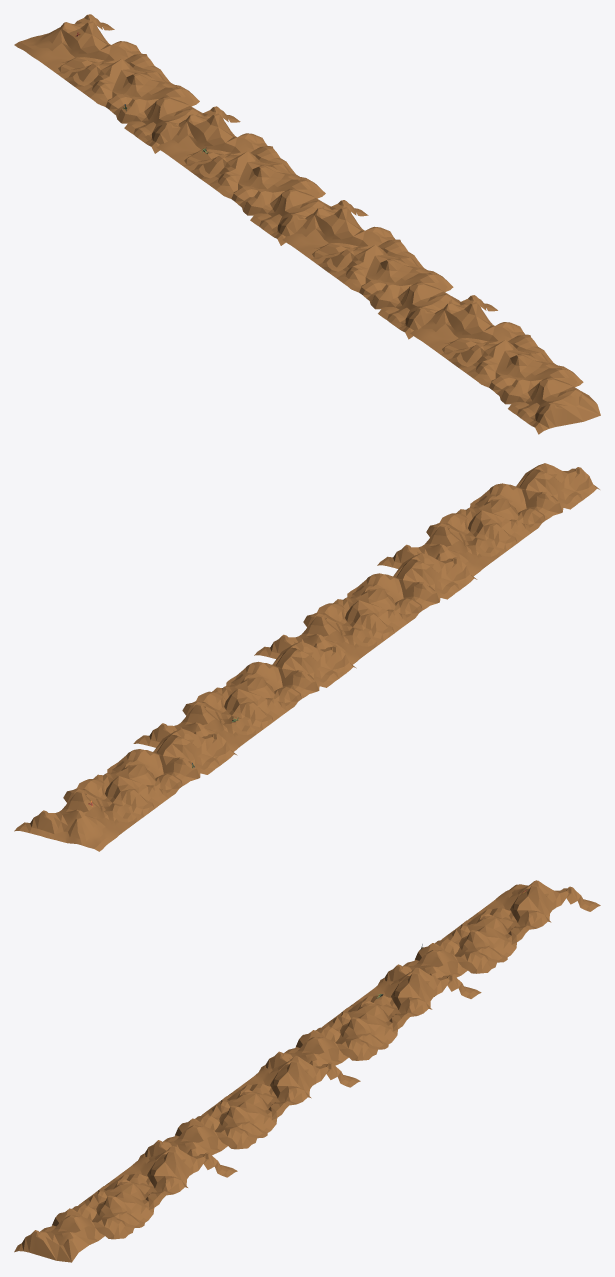
The model's file is _lvl_desert_mountains.glb.
The picture shows the model from 3 angles, top to bottom: view 1: azimuth 30°, elevation 25°; view 2: azimuth 150°, elevation 25°; view 3: azimuth 330°, elevation 25°; orthographic projection. The views are drawn at different scales.
Visible parts, largest first — view 1: SM_Env_Hills_Far_Back_part2 (3), SM_Env_Hills_Far_Back_part2 (2), SM_Env_Hills_Far_Back_part1, SM_Env_Hills_Far_Back_part2 (1), SM_Env_Hills_Far_Back_part2, SM_Env_Hills_Far_Back_part1 (3), SM_Env_Hills_Far_Back_part1 (2), SM_Env_Hills_Far_Back_part1 (1); view 2: SM_Env_Hills_Far_Back_part1, SM_Env_Hills_Far_Back_part2 (3), SM_Env_Hills_Far_Back_part2 (2), SM_Env_Hills_Far_Back_part2 (1), SM_Env_Hills_Far_Back_part2, SM_Env_Hills_Far_Back_part1 (3), SM_Env_Hills_Far_Back_part1 (2), SM_Env_Hills_Far_Back_part1 (1); view 3: SM_Env_Hills_Far_Back_part2 (3), SM_Env_Hills_Far_Back_part2 (2), SM_Env_Hills_Far_Back_part2 (1), SM_Env_Hills_Far_Back_part2, SM_Env_Hills_Far_Back_part1, SM_Env_Hills_Far_Back_part1 (3), SM_Env_Hills_Far_Back_part1 (2), SM_Env_Hills_Far_Back_part1 (1).
Part boxes in pixels (box(x1,y1,x2,y2)): SM_Env_Hills_Far_Back_part2 (3): box(470, 350, 600, 434); SM_Env_Hills_Far_Back_part2 (2): box(340, 255, 460, 339); SM_Env_Hills_Far_Back_part1: box(14, 14, 160, 94); SM_Env_Hills_Far_Back_part2 (1): box(212, 161, 331, 245); SM_Env_Hills_Far_Back_part2: box(86, 69, 204, 153); SM_Env_Hills_Far_Back_part1 (3): box(401, 295, 543, 375); SM_Env_Hills_Far_Back_part1 (2): box(271, 200, 414, 280); SM_Env_Hills_Far_Back_part1 (1): box(144, 106, 286, 187); SM_Env_Hills_Far_Back_part1: box(14, 774, 164, 851); SM_Env_Hills_Far_Back_part2 (3): box(462, 463, 599, 535); SM_Env_Hills_Far_Back_part2 (2): box(339, 553, 477, 625); SM_Env_Hills_Far_Back_part2 (1): box(218, 641, 356, 713); SM_Env_Hills_Far_Back_part2: box(99, 728, 237, 800); SM_Env_Hills_Far_Back_part1 (3): box(377, 509, 527, 583); SM_Env_Hills_Far_Back_part1 (2): box(254, 599, 404, 673); SM_Env_Hills_Far_Back_part1 (1): box(133, 687, 283, 761); SM_Env_Hills_Far_Back_part2 (3): box(14, 1191, 154, 1262); SM_Env_Hills_Far_Back_part2 (2): box(138, 1101, 277, 1159); SM_Env_Hills_Far_Back_part2 (1): box(259, 1012, 397, 1071); SM_Env_Hills_Far_Back_part2: box(378, 925, 516, 996); SM_Env_Hills_Far_Back_part1: box(450, 880, 600, 942); SM_Env_Hills_Far_Back_part1 (3): box(87, 1146, 237, 1207); SM_Env_Hills_Far_Back_part1 (2): box(210, 1056, 360, 1117); SM_Env_Hills_Far_Back_part1 (1): box(332, 967, 481, 1029).
Size of the model in its own units: 371 by 130 by 3649.
Materials: 1 (1 with a texture image).
